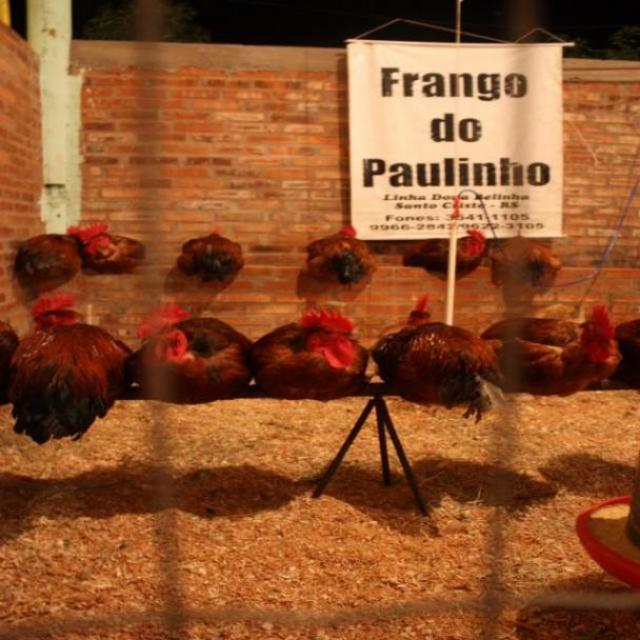Chicken: (0, 292, 639, 444), (13, 308, 175, 455), (307, 226, 381, 289), (402, 230, 489, 275), (177, 229, 244, 284)
